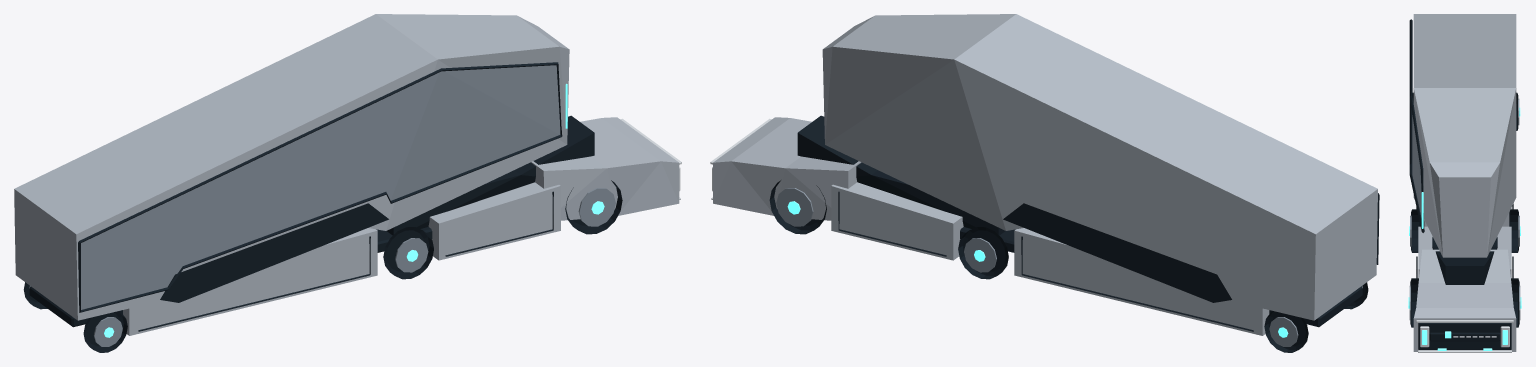
File: reference-truck.glb
3 renders of one model, left to right at view 1: azimuth 30°, elevation 25°; view 2: azimuth 150°, elevation 25°; view 3: azimuth 270°, elevation 25°, orthographic. The views are drawn at different scales.
Parts seen in each view (by area): view 1: Body body, Body panel, Body dark, Tire 1 -1, Wheel alloy, Wheel alloy.002, Tire 2 -1, Tire 0 -1, Wheel alloy.004; view 2: Body body, Body dark, Tire 1 1, Wheel alloy.001, Wheel alloy.003, Tire 2 1, Tire 0 1, Wheel alloy.005; view 3: Body body, Body dark, Body trim, Body panel, Body accent, Tire 1 1, Tire 1 -1, Tire 0 1, Tire 0 -1.
Boxes of the visible parts, x1,y1,x2,y2 form: Body body: [14, 14, 679, 335]; Body panel: [81, 65, 560, 309]; Body dark: [29, 62, 594, 331]; Tire 1 -1: [383, 227, 433, 279]; Wheel alloy: [578, 188, 615, 226]; Wheel alloy.002: [395, 238, 428, 272]; Tire 2 -1: [83, 311, 127, 352]; Tire 0 -1: [565, 180, 622, 234]; Wheel alloy.004: [94, 317, 122, 346]; Body body: [713, 14, 1377, 335]; Body dark: [797, 115, 1379, 331]; Tire 1 1: [958, 227, 1008, 279]; Wheel alloy.001: [776, 188, 813, 226]; Wheel alloy.003: [964, 238, 996, 272]; Tire 2 1: [1264, 311, 1308, 352]; Tire 0 1: [769, 180, 826, 234]; Wheel alloy.005: [1269, 317, 1298, 346]; Body body: [1413, 14, 1516, 351]; Body dark: [1409, 19, 1513, 349]; Body trim: [1416, 320, 1513, 352]; Body panel: [1412, 115, 1424, 220]; Body accent: [1421, 192, 1507, 350]; Tire 1 1: [1509, 209, 1518, 252]; Tire 1 -1: [1411, 209, 1420, 252]; Tire 0 1: [1511, 278, 1519, 327]; Tire 0 -1: [1410, 278, 1418, 327].
Bounding box in the file's own units: 14.48 × 4.81 × 2.83.
